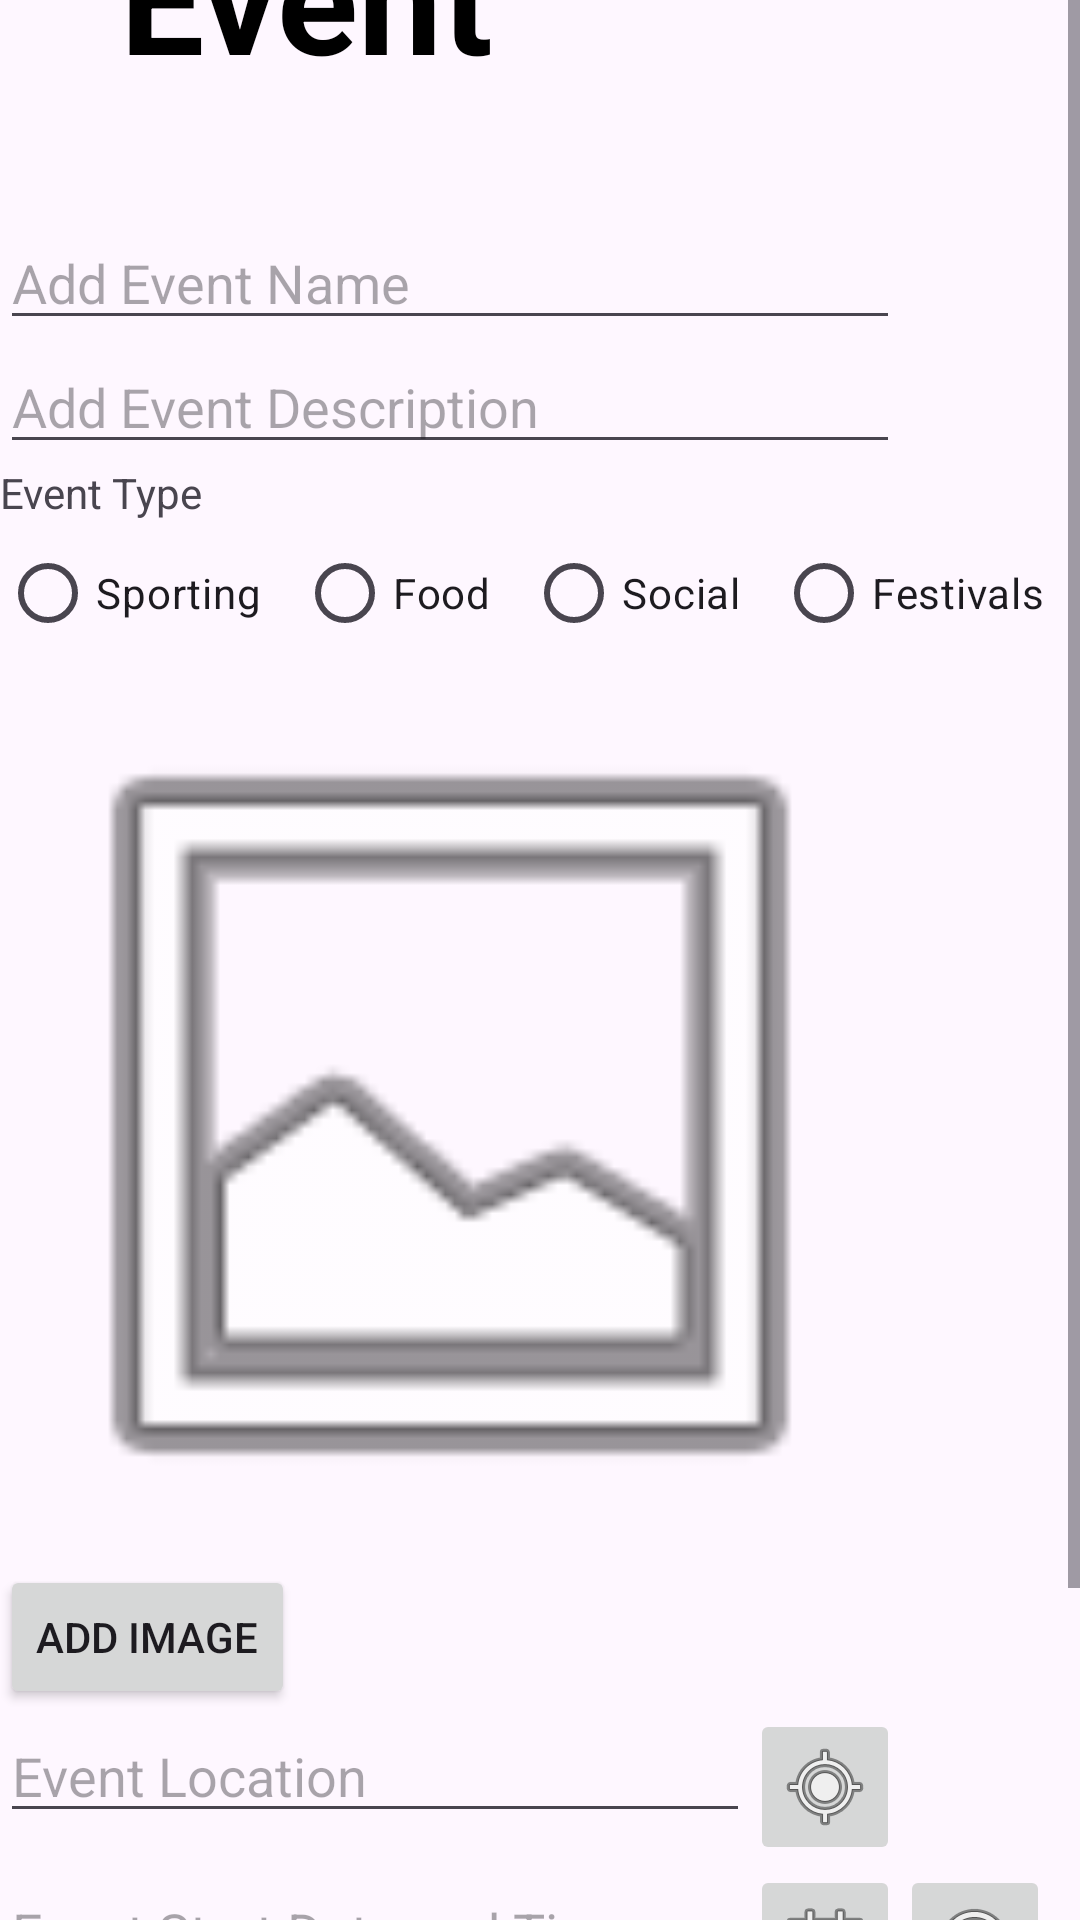

Where to tap for icons on this 1080*1920 app screen, as [x,y]:
mylocation: [825,1787]
